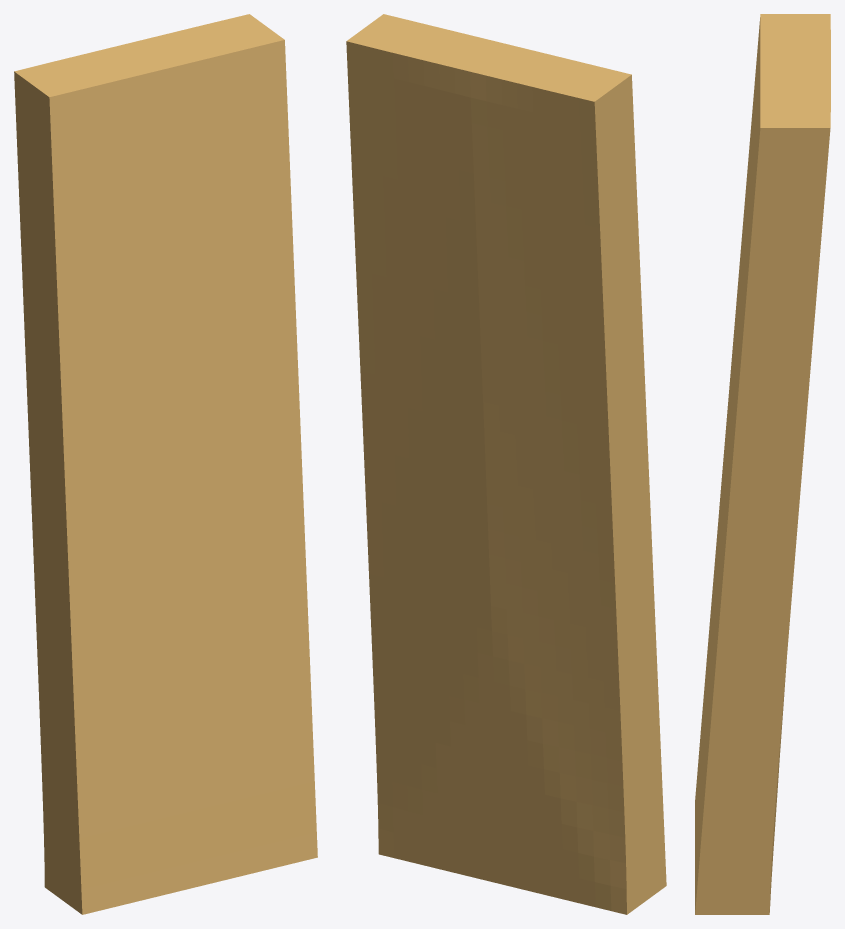
Rendered from TempleEntrySandRoom.fbx.
3 renders of one model, left to right at view 1: azimuth 30°, elevation 25°; view 2: azimuth 150°, elevation 25°; view 3: azimuth 270°, elevation 25°, orthographic. The views are drawn at different scales.
Parts seen in each view (by area): view 1: TempleEntrySandRoom; view 2: TempleEntrySandRoom; view 3: TempleEntrySandRoom.
Part boxes in pixels (bbox=[...]): TempleEntrySandRoom: bbox=[14, 14, 317, 914]; TempleEntrySandRoom: bbox=[346, 14, 666, 914]; TempleEntrySandRoom: bbox=[695, 14, 830, 914].
Size of the model in its own units: 144 by 72.37 by 462.
